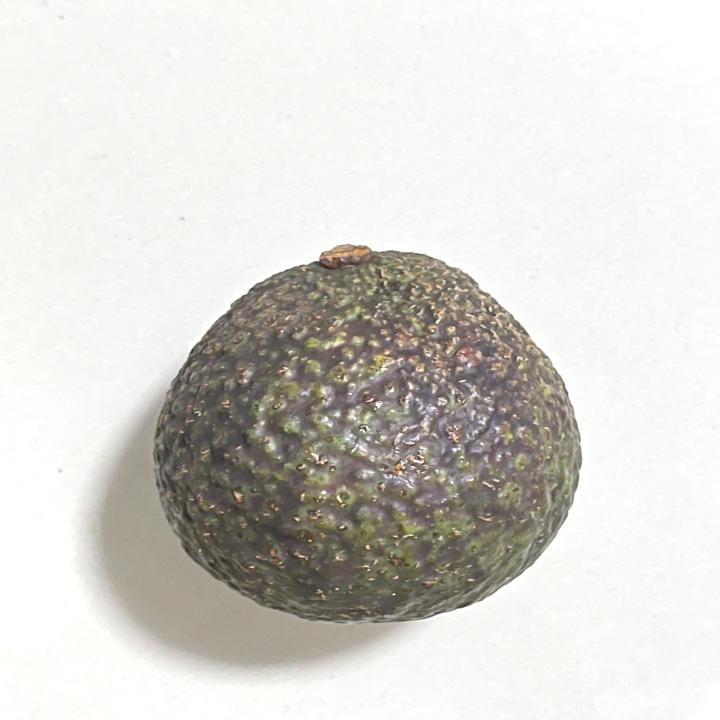Level1: (138, 233, 594, 630)
